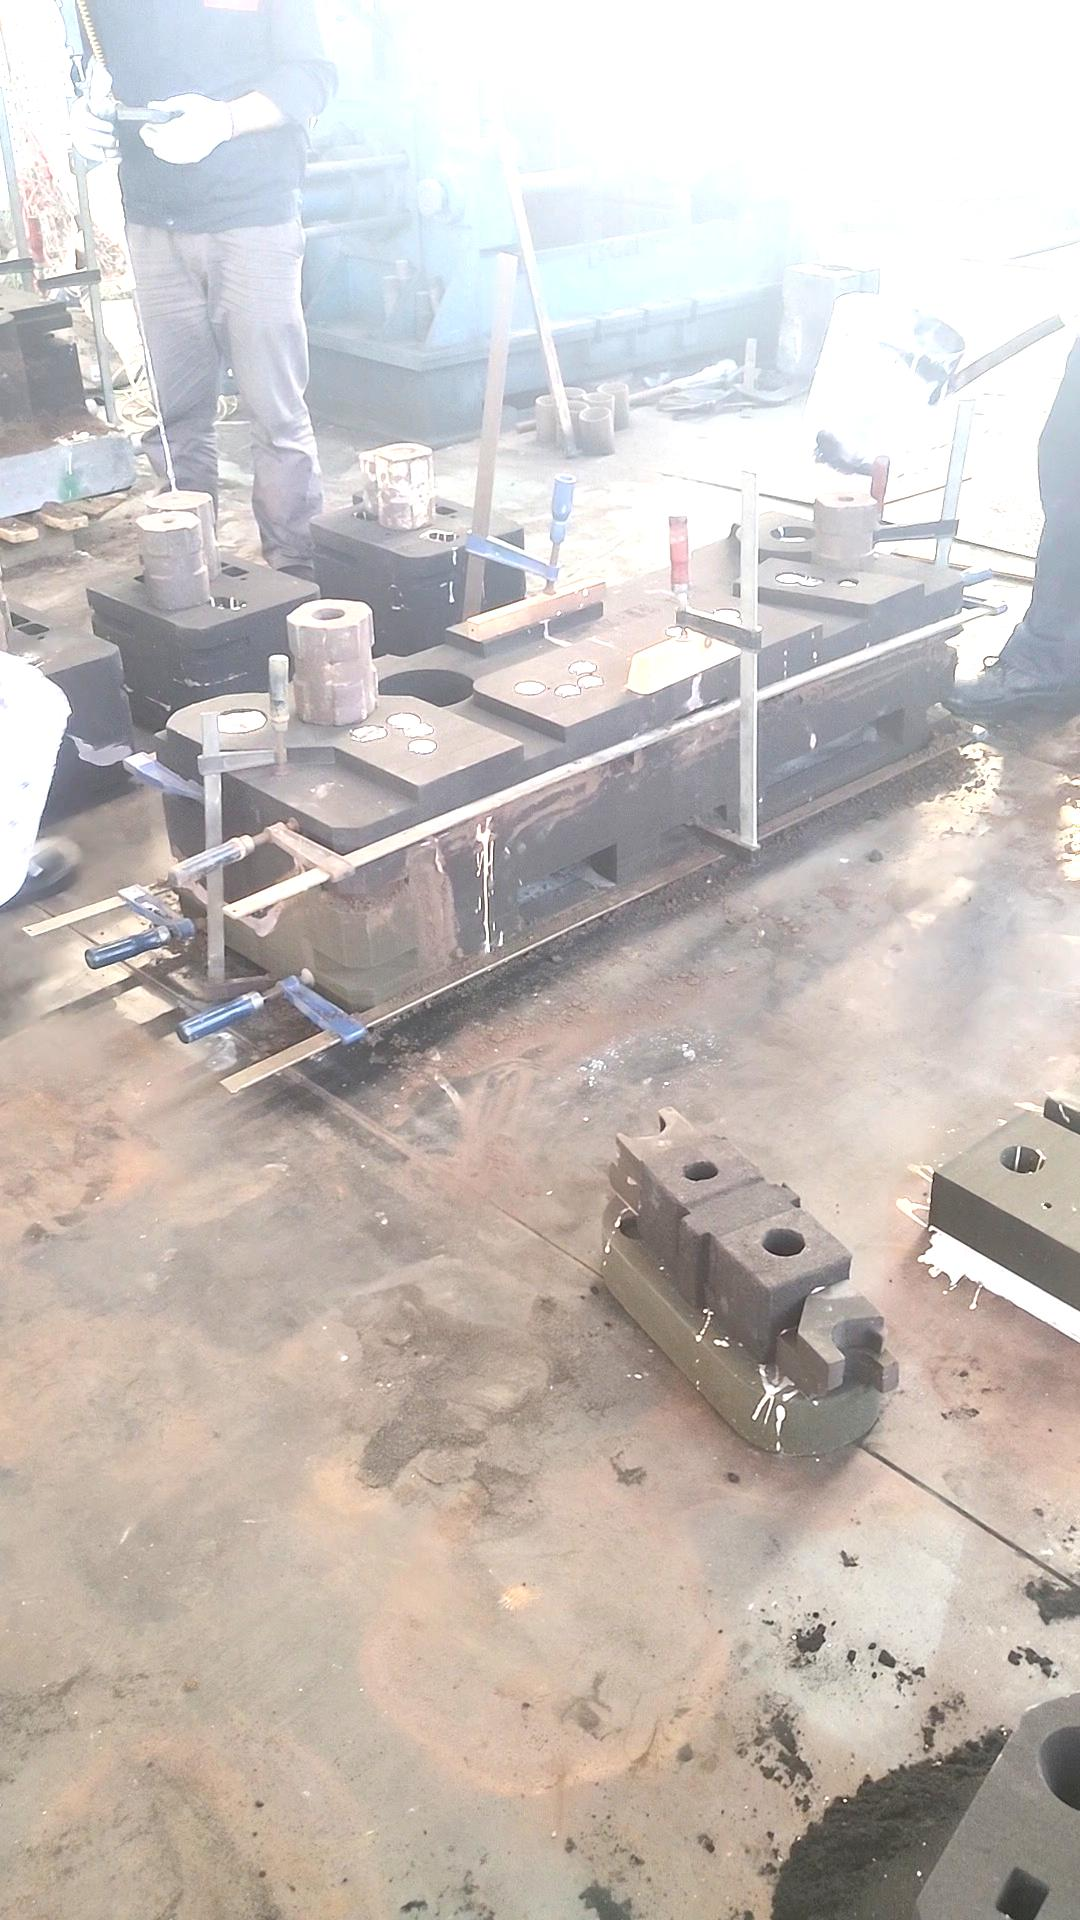pouring hole: (1036, 1721, 1080, 1809), (211, 703, 268, 736), (144, 531, 204, 556), (1000, 1143, 1044, 1176), (767, 524, 815, 543), (372, 485, 419, 502), (578, 405, 611, 422), (535, 393, 563, 407), (597, 381, 626, 393), (564, 400, 589, 411), (589, 392, 615, 402), (560, 386, 584, 397)
